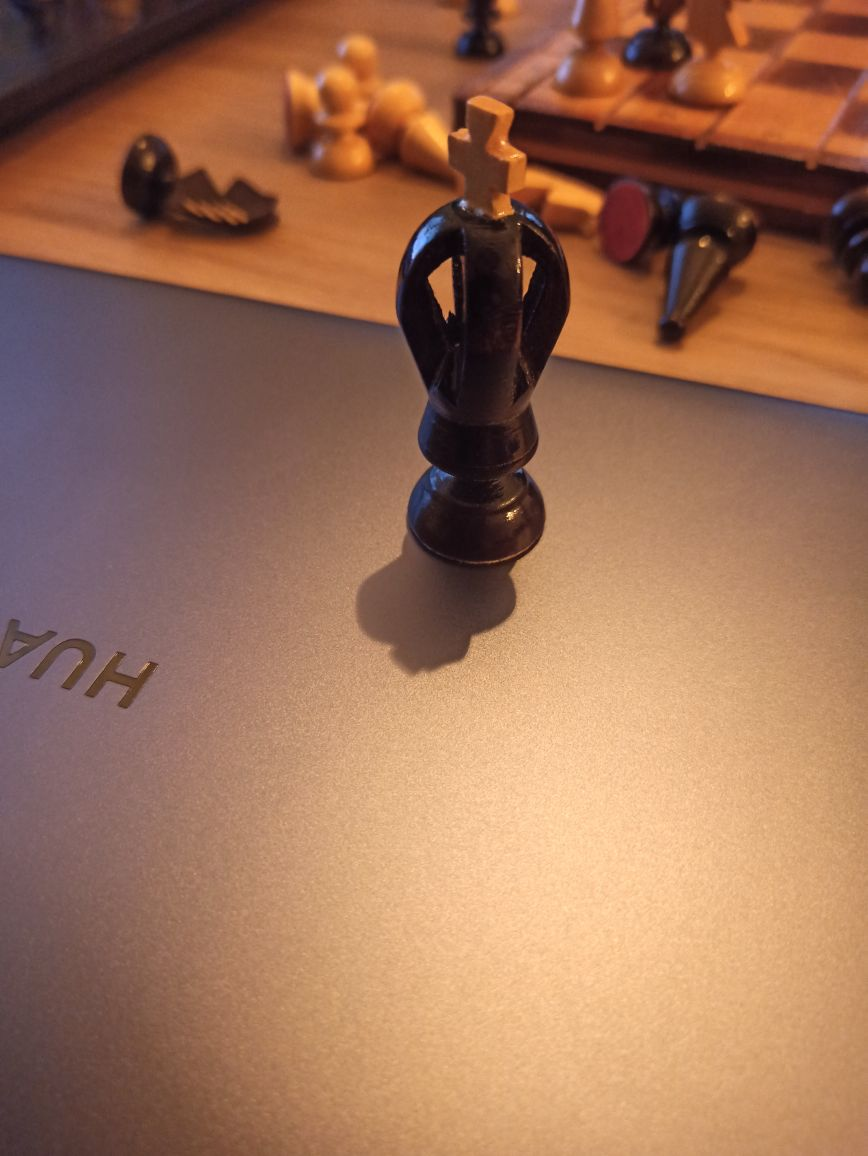bking: (394, 92, 571, 564)
